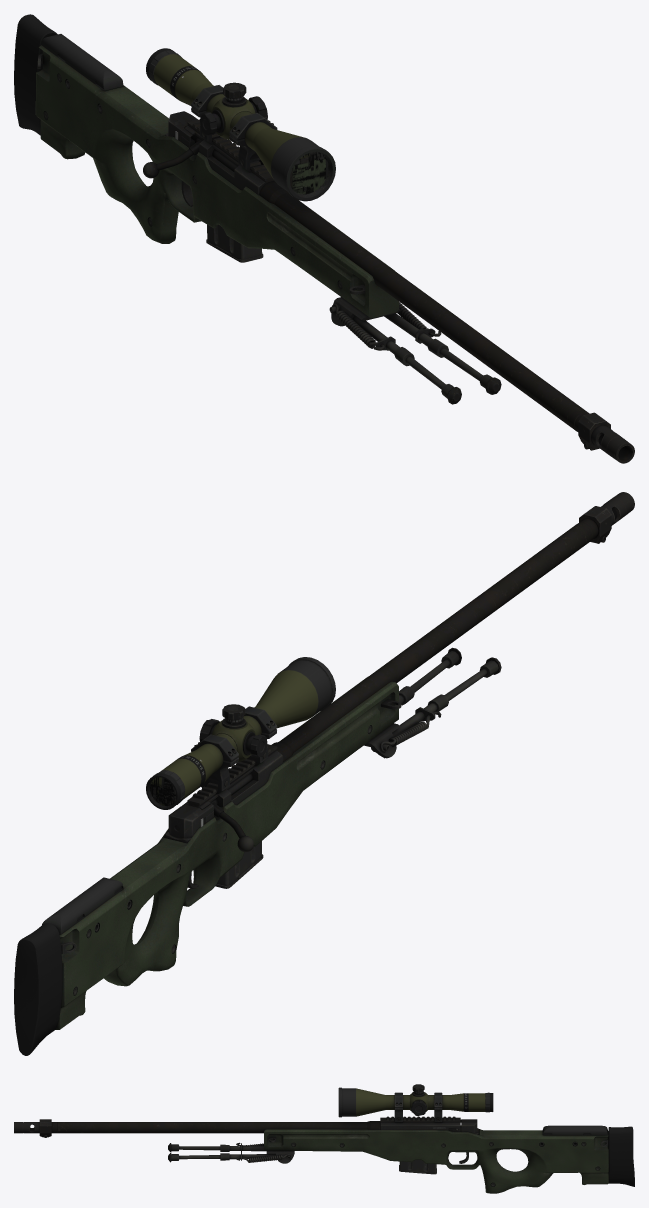
The model's file is awp.glb.
The picture shows the model from 3 angles, top to bottom: view 1: azimuth 30°, elevation 25°; view 2: azimuth 150°, elevation 25°; view 3: azimuth 270°, elevation 25°; orthographic projection. The views are drawn at different scales.
Visible parts, largest first — view 1: awp; view 2: awp; view 3: awp.
Boxes of the visible parts, box(x1,y1,x2,y2) form: awp: box(14, 14, 634, 463); awp: box(14, 492, 634, 1055); awp: box(14, 1084, 634, 1193).
Size of the model in its own units: 4.55 by 10.1 by 53.8.
1 material, 1 textured.
